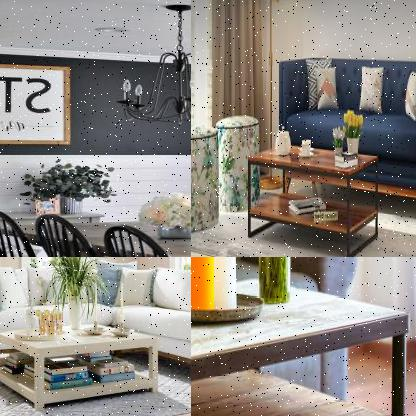table: (191, 271, 414, 415), (0, 313, 164, 415), (245, 137, 381, 256)
